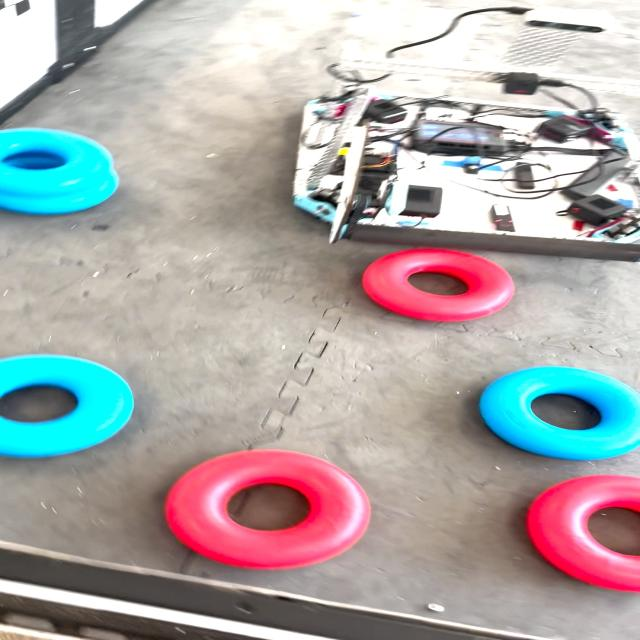Blue-Ring: (480, 366, 640, 460), (0, 355, 133, 458), (0, 128, 116, 196), (0, 178, 118, 214)
Red-Ring: (164, 449, 371, 569), (527, 475, 640, 592), (362, 249, 513, 321)
